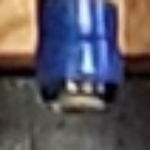bottle: (24, 18, 141, 134)
